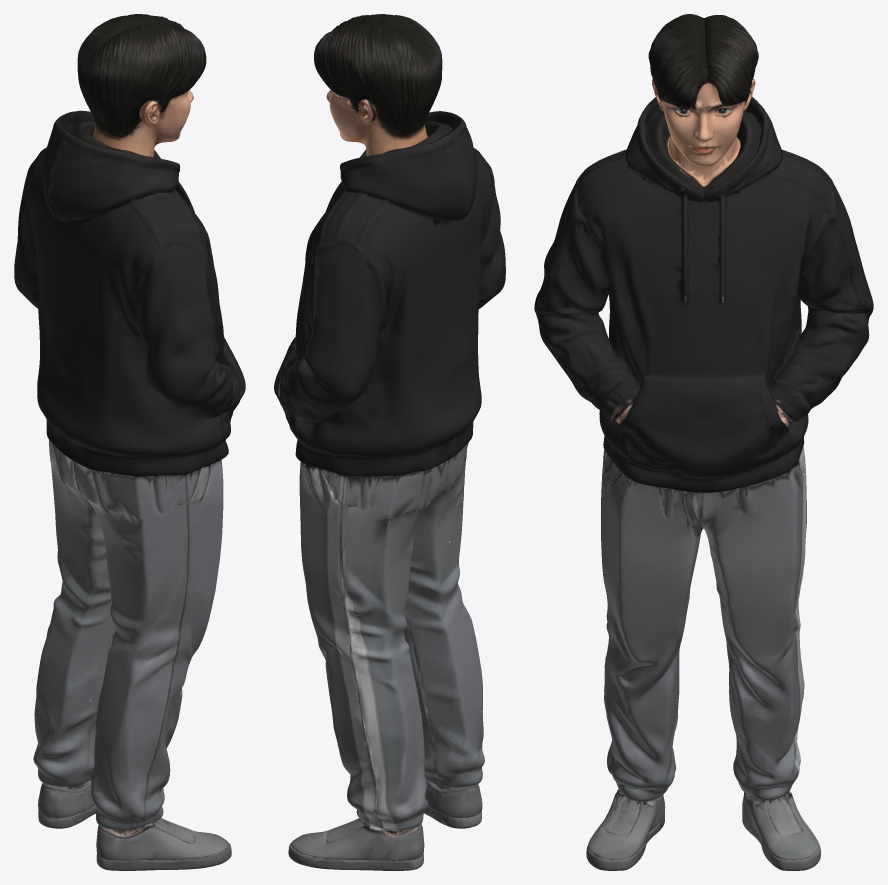
Rendered from jeff-center.glb.
3 renders of one model, left to right at view 1: azimuth 30°, elevation 25°; view 2: azimuth 150°, elevation 25°; view 3: azimuth 270°, elevation 25°, orthographic. The views are drawn at different scales.
Visible parts, largest first — view 1: tripo_node_ac313384-44d7-470b-aea6-30690aab7e0e; view 2: tripo_node_ac313384-44d7-470b-aea6-30690aab7e0e; view 3: tripo_node_ac313384-44d7-470b-aea6-30690aab7e0e.
Part boxes in pixels (x1,y1,x2,y2): tripo_node_ac313384-44d7-470b-aea6-30690aab7e0e: (14,14,245,870); tripo_node_ac313384-44d7-470b-aea6-30690aab7e0e: (274,14,505,870); tripo_node_ac313384-44d7-470b-aea6-30690aab7e0e: (534,14,873,870).
Size of the model in its own units: 0.2225 by 0.9799 by 0.3644.
Materials: 1 (1 with a texture image).
